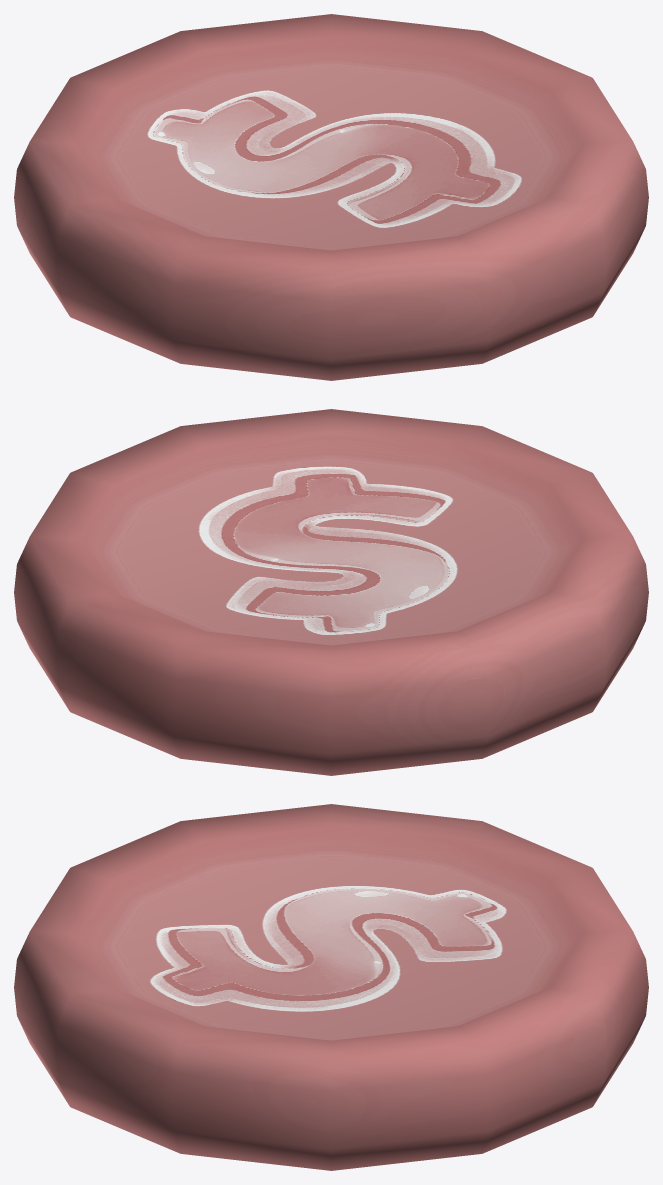
Rendered from Coin.fbx.
3 views of the same model, one above another, from view 1: azimuth 30°, elevation 25°; view 2: azimuth 150°, elevation 25°; view 3: azimuth 270°, elevation 25° (orthographic).
Parts seen in each view (by area): view 1: Coin; view 2: Coin; view 3: Coin.
Boxes of the visible parts, x1,y1,x2,y2 form: Coin: (14,14,648,380); Coin: (14,409,648,775); Coin: (14,804,648,1170).
Bounding box in the file's own units: 110 × 21.46 × 110.
1 material, 1 textured.
